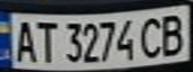2: (78, 18, 100, 64)
3: (60, 18, 84, 64)
4: (115, 16, 139, 62)
7: (97, 17, 118, 63)
A: (9, 17, 39, 63)
B: (157, 10, 190, 57)
C: (136, 12, 169, 60)
T: (33, 18, 60, 64)
